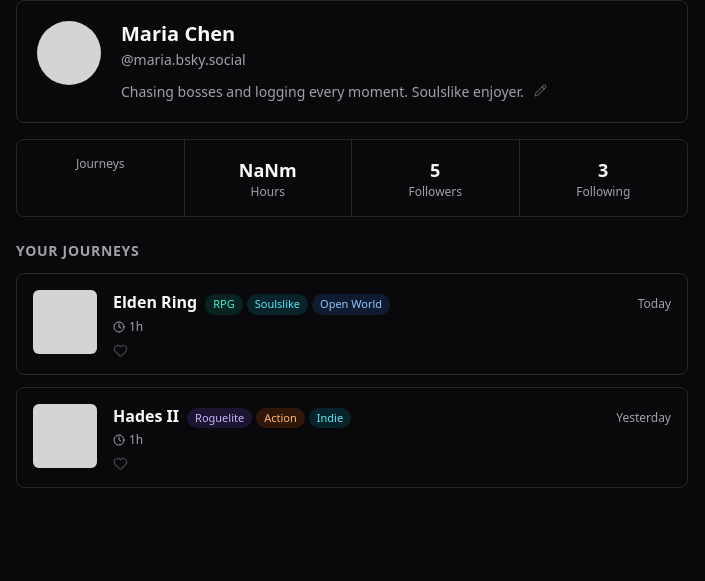
Test: Hero — bio › clicking Edit bio shows a textarea with the current bio
Click the button named "Edit bio" at (540, 90), box x1=532 y1=82 x2=549 y2=99
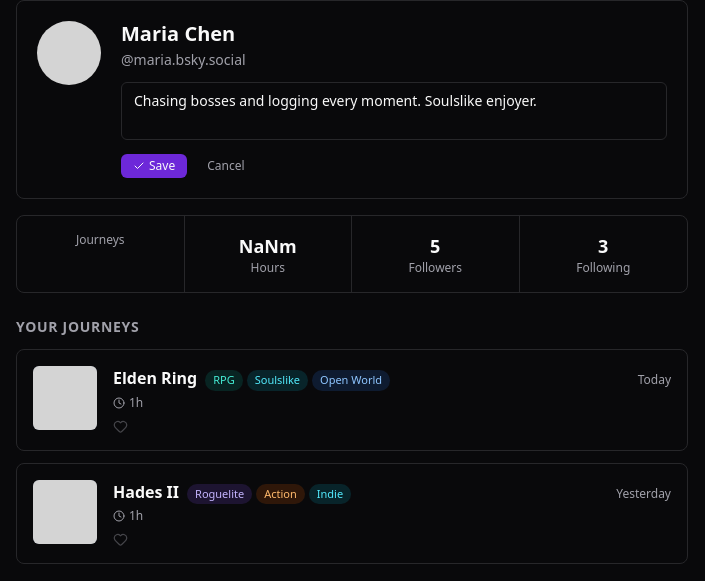
Expected: the text box named "Bio" holds "Chasing bosses and logging every moment. Soulslike enjoyer.", x1=121 y1=82 x2=667 y2=140
